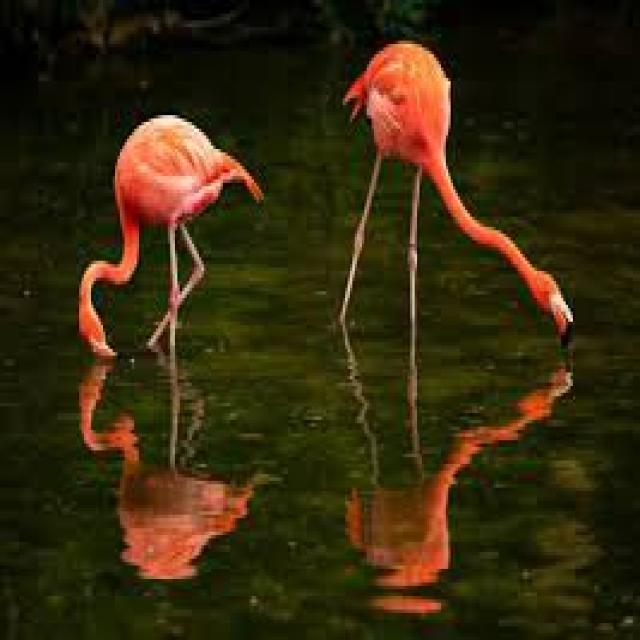Flamingo: (336, 38, 580, 372), (79, 108, 265, 362)
